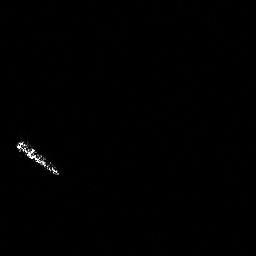ship: (16, 140, 60, 177)
